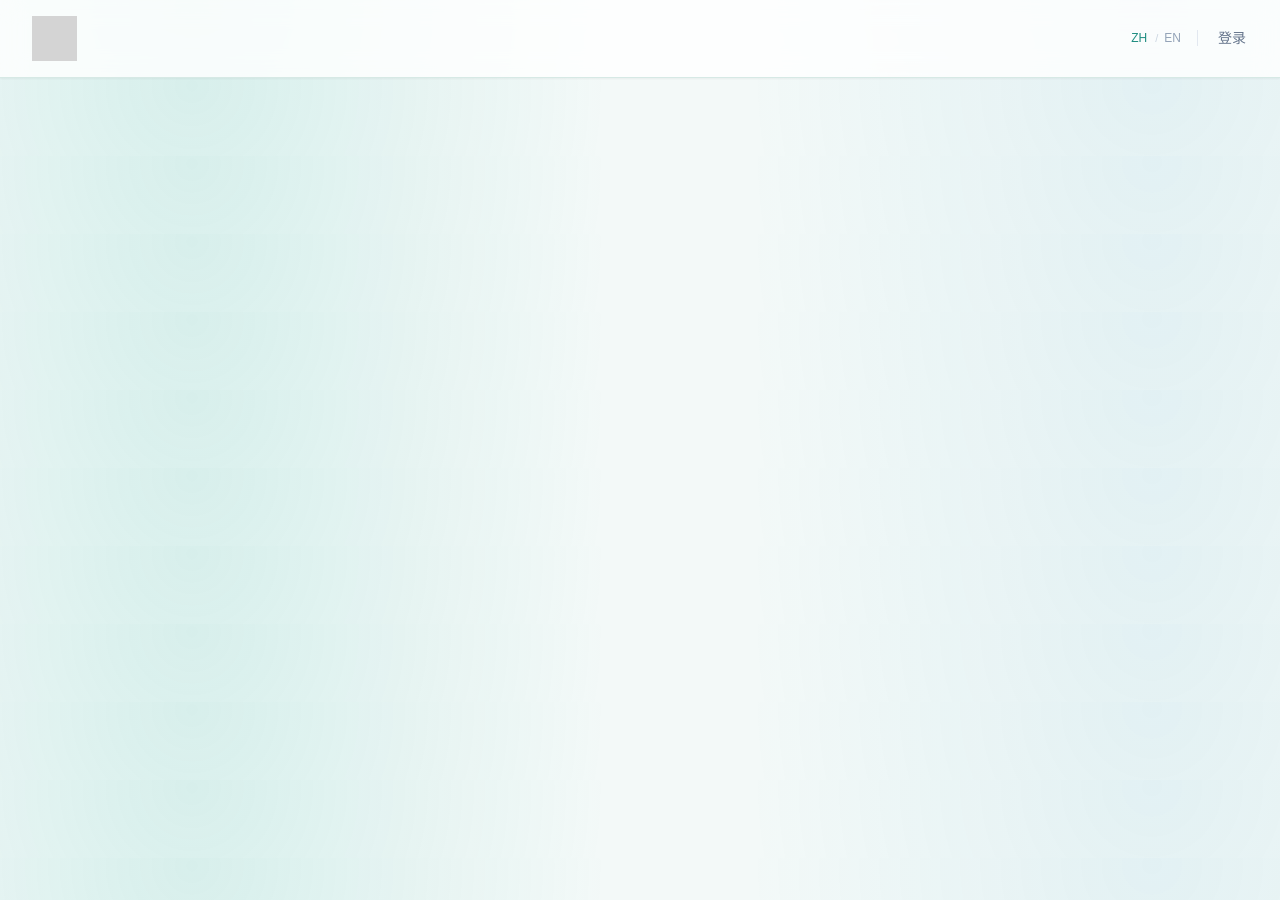
Test: language switcher › renders zh | en buttons in the header and switches to English
The image size is (1280, 900).
Click the button with aria-label "切换网站语言为英文" at (1173, 38), box top-left (1158, 26), bottom-right (1187, 50)
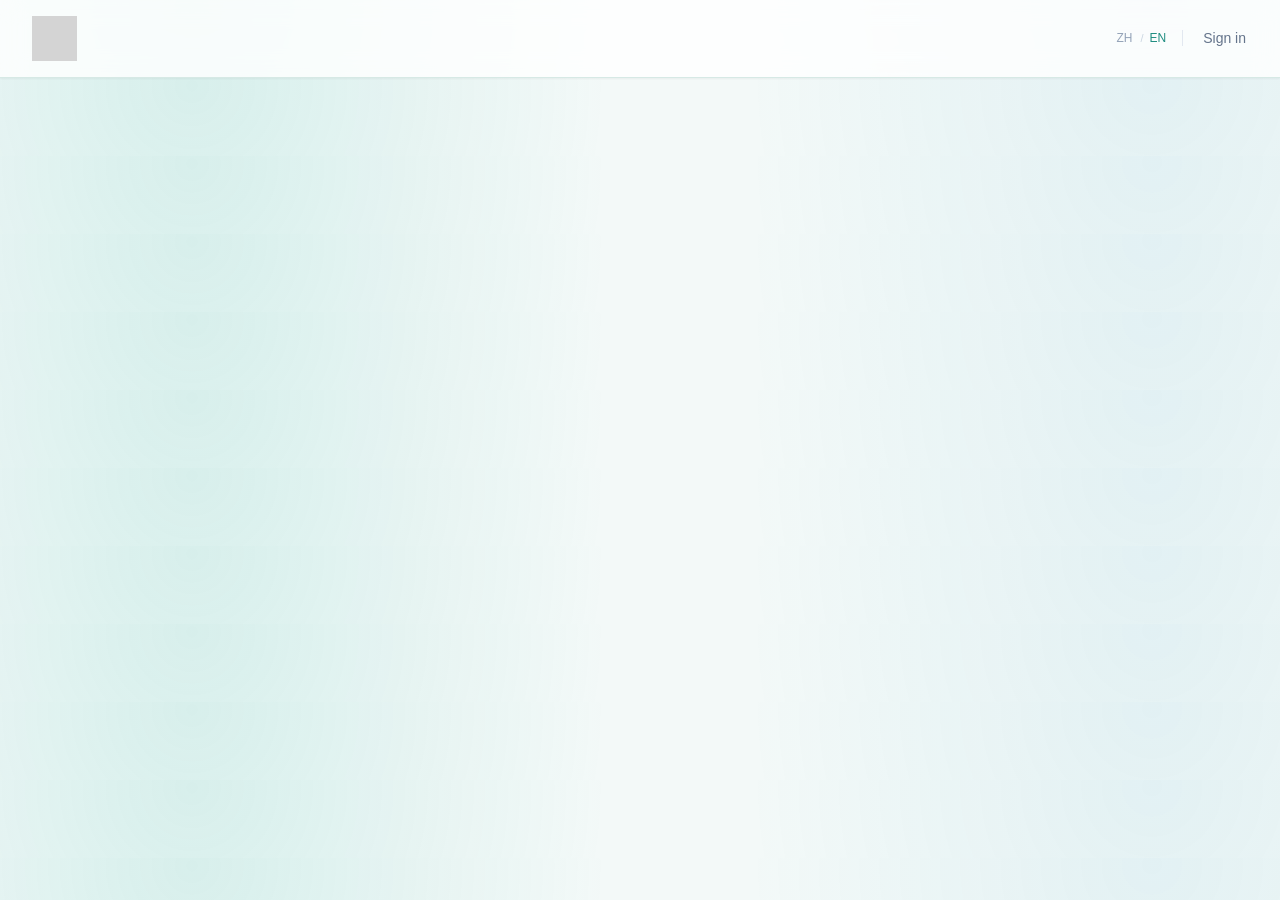
Now the element named "Language switcher" is shown, box top-left (1110, 26), bottom-right (1172, 50)
Now the button with aria-label "Switch site language to Chinese" is shown, box top-left (1110, 26), bottom-right (1138, 50)
Now the button "Sign in" is shown, box top-left (1193, 22), bottom-right (1256, 54)
